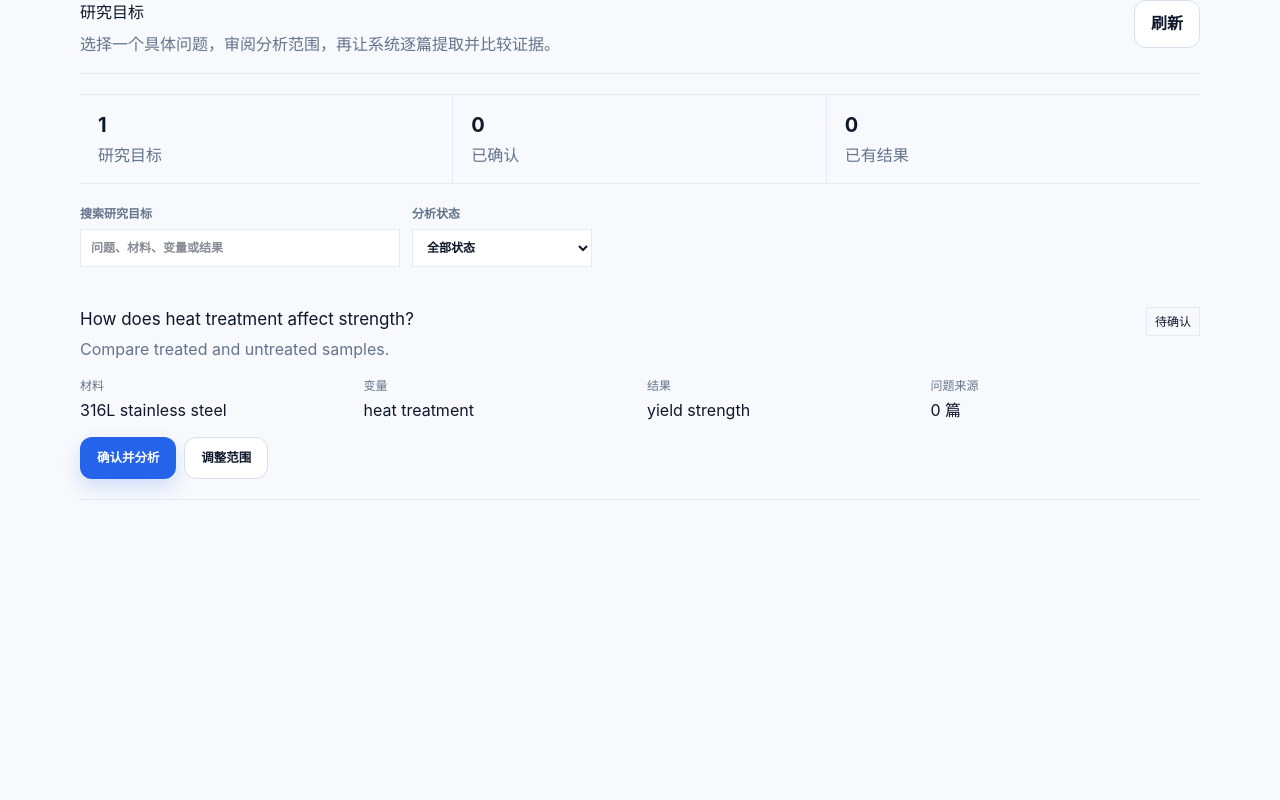
collections/[id]/objectives/+page.svelte › requires explicit selection for a seedless Objective
Click the button "确认并分析" at (128, 458), box left=80, top=437, right=176, bottom=479
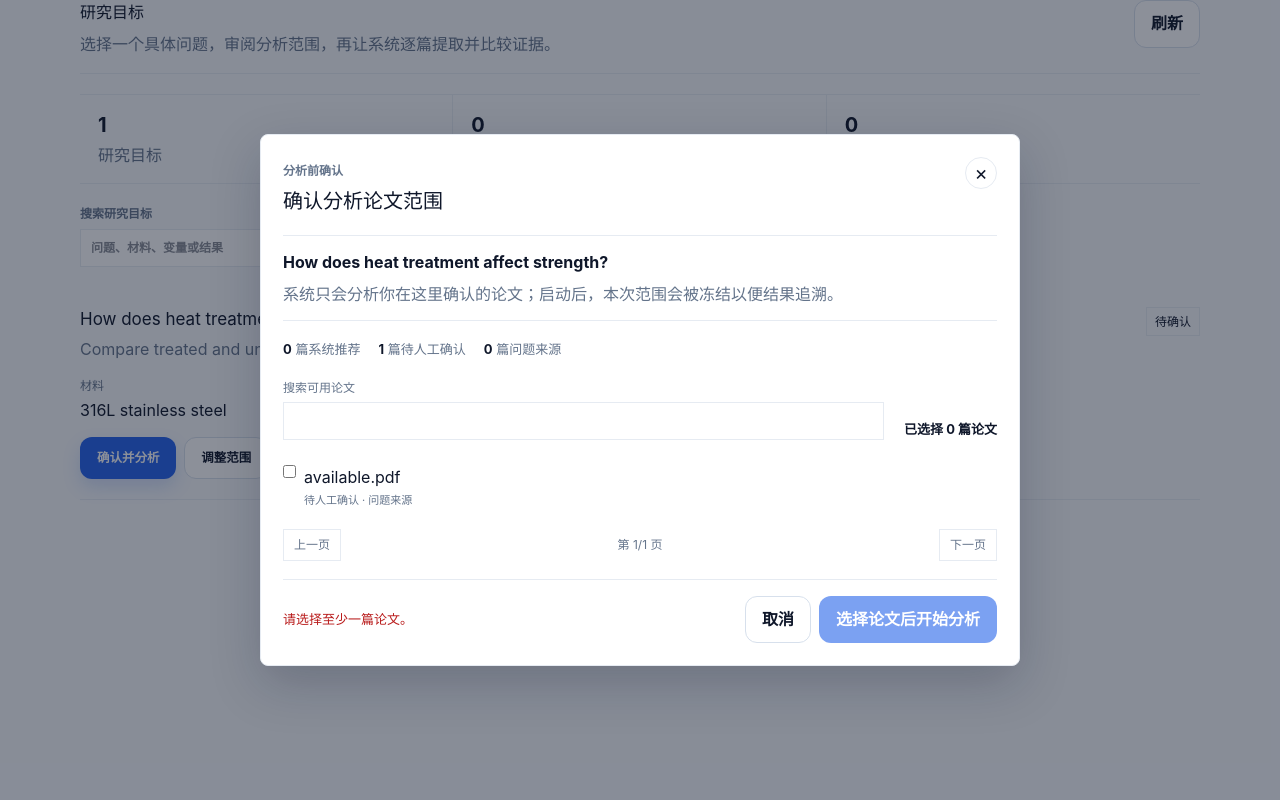
Now the text "已选择 0 篇论文" is shown, box left=904, top=419, right=997, bottom=440
Now the text "请选择至少一篇论文。" is shown, box left=283, top=609, right=413, bottom=630
Now the button "选择论文后开始分析" is disabled, box left=819, top=596, right=997, bottom=644
Click the checkbox labelled "available.pdf 待人工确认 · 问题来源" at (290, 471), box left=283, top=465, right=296, bottom=478
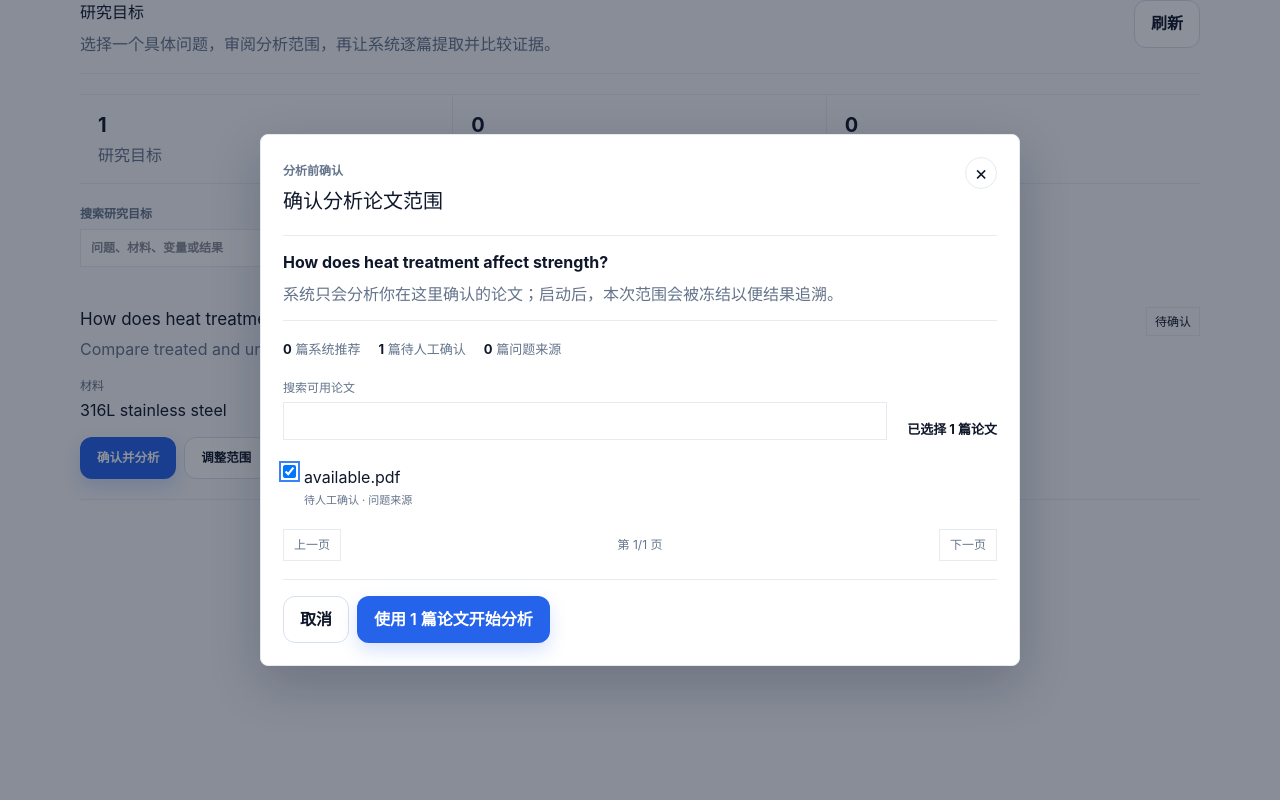
Now the button "使用 1 篇论文开始分析" is enabled, box left=357, top=596, right=550, bottom=644
